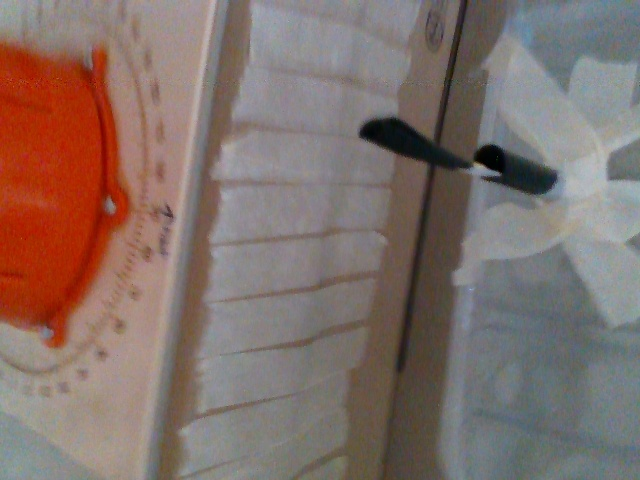test_strip: (355, 113, 497, 177)
